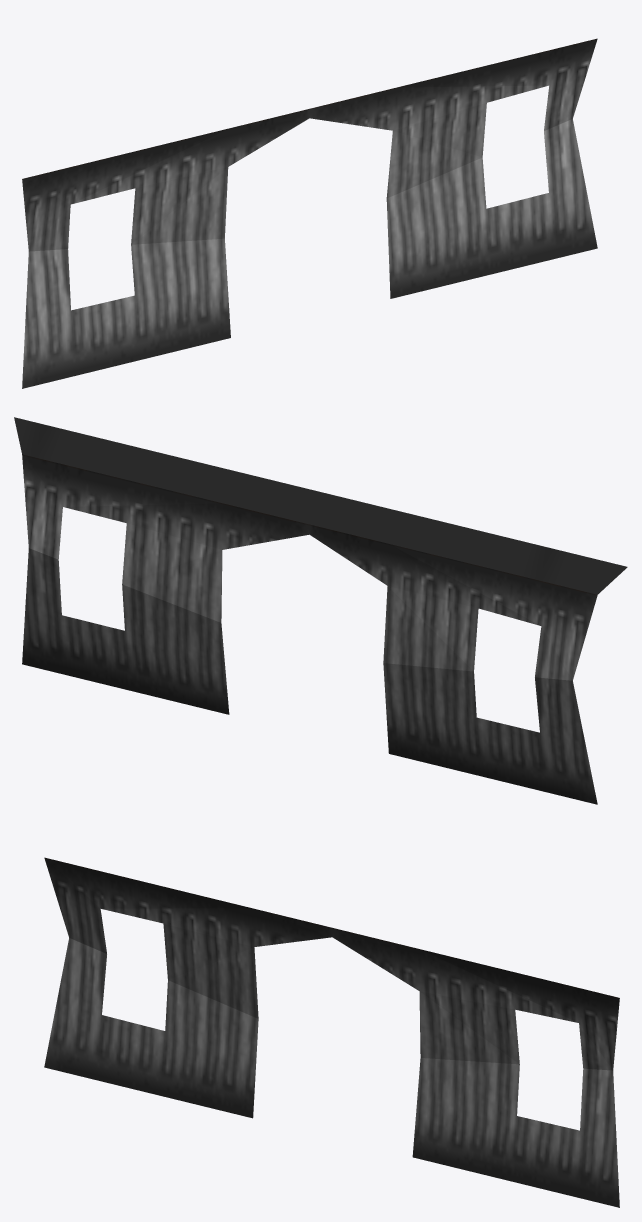
The model's file is W_A1_fof [Wellblech]_738.glb.
3 renders of one model, top to bottom at view 1: azimuth 30°, elevation 25°; view 2: azimuth 150°, elevation 25°; view 3: azimuth 330°, elevation 25°, orthographic.
Parts seen in each view (by area): view 1: polySurfaceShape907; view 2: polySurfaceShape907, polySurfaceShape1057; view 3: polySurfaceShape907.
Boxes of the visible parts, x1,y1,x2,y2 form: polySurfaceShape907: [22, 38, 597, 388]; polySurfaceShape907: [22, 454, 597, 804]; polySurfaceShape1057: [14, 417, 627, 594]; polySurfaceShape907: [44, 857, 619, 1207].
Size of the model in its own units: 1.07 by 0.3891 by 0.0607.
2 materials, 2 textured.
